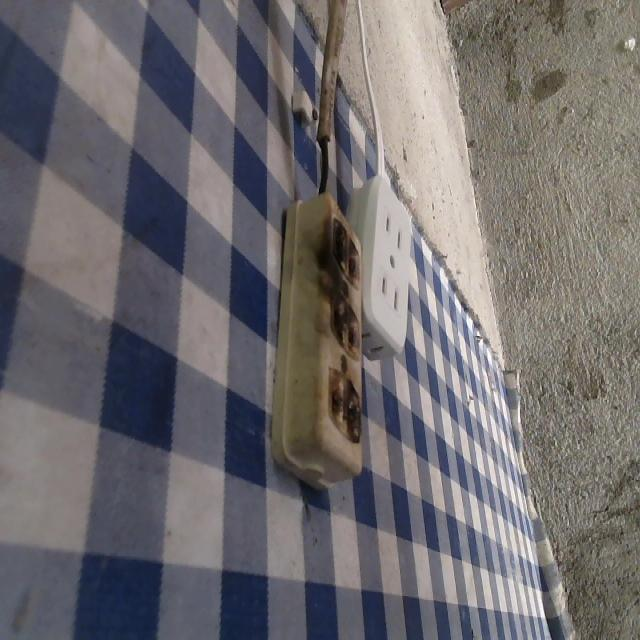-: (323, 364, 369, 448), (323, 291, 369, 360), (328, 219, 370, 285)
